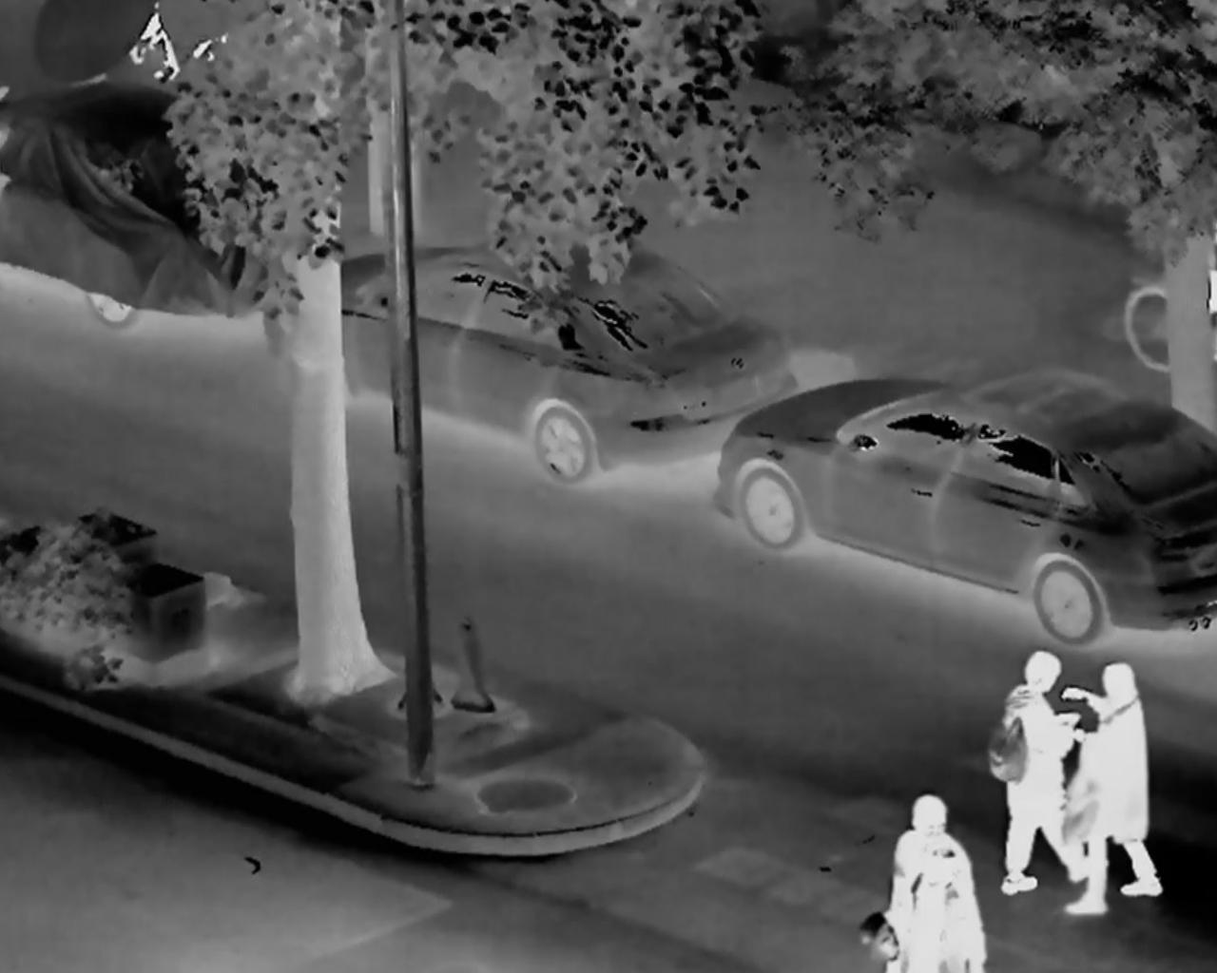person: (992, 633, 1083, 937), (1083, 658, 1172, 920), (866, 793, 987, 973), (886, 842, 986, 973)
